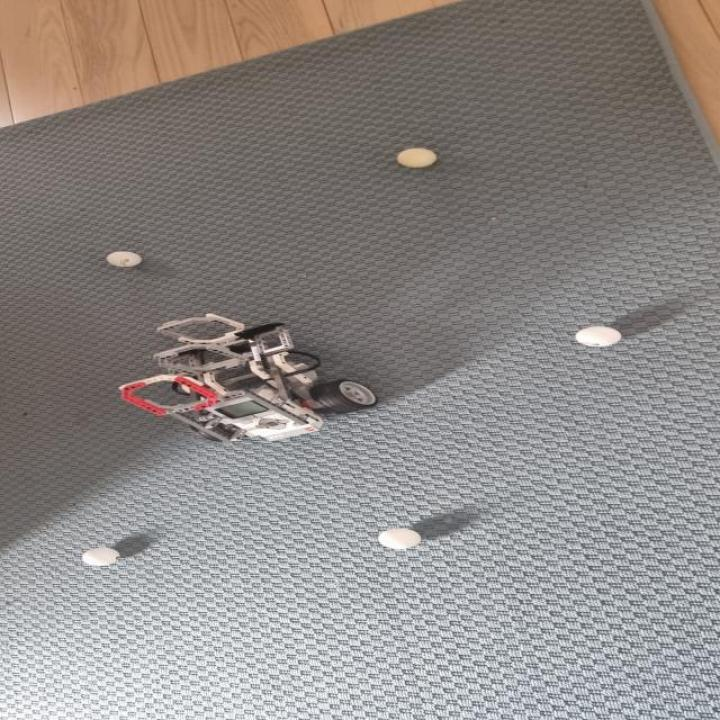robot: (117, 312, 379, 443)
white: (577, 327, 622, 348), (380, 528, 420, 548), (398, 149, 437, 168), (83, 548, 121, 566), (106, 252, 142, 268)
